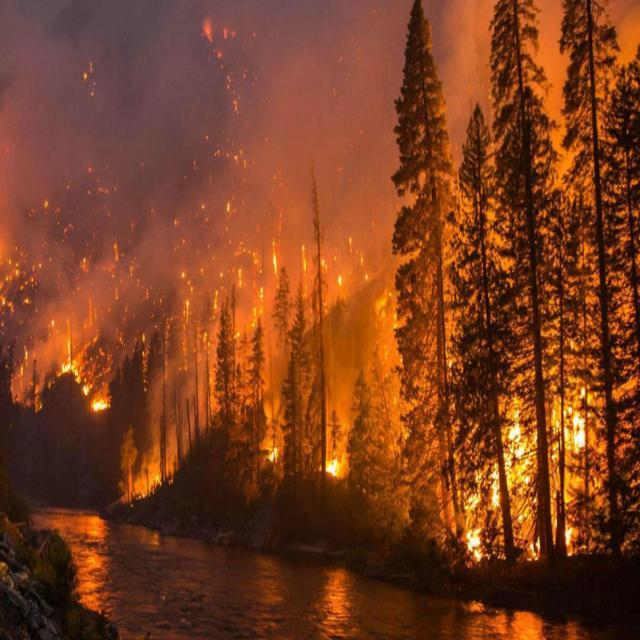Fire: (0, 146, 387, 512), (444, 351, 606, 570)
Smoke: (0, 0, 399, 314)
